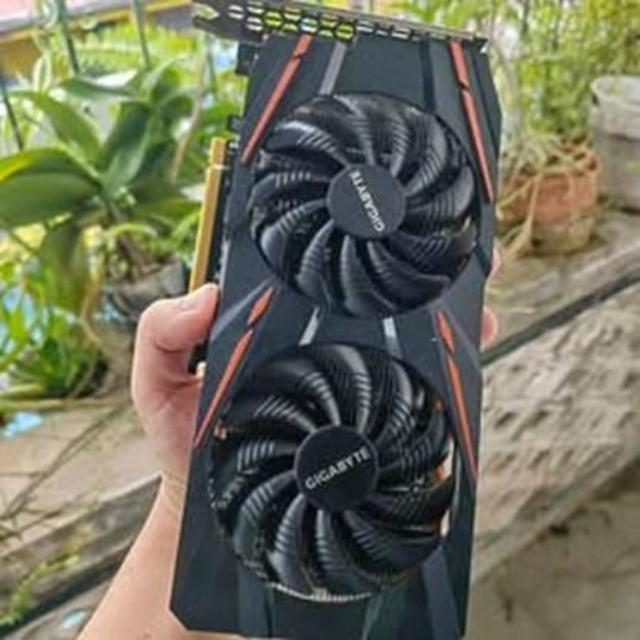GPU: (169, 0, 517, 640)
